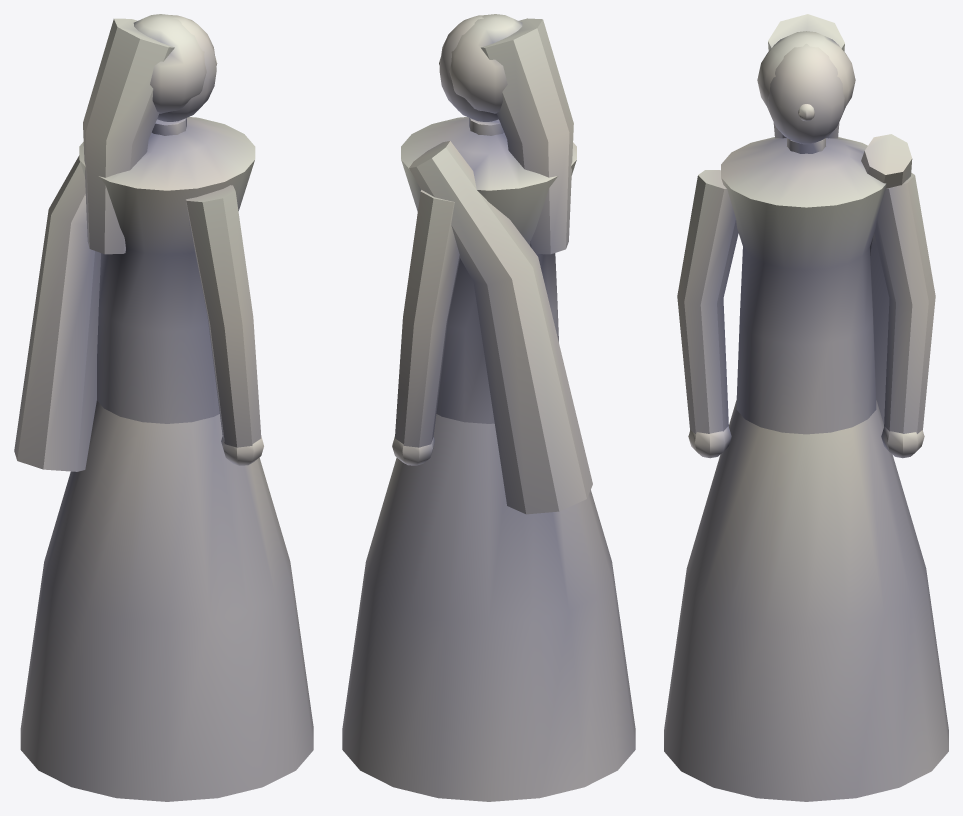
File: malati.glb
3 renders of one model, left to right at view 1: azimuth 30°, elevation 25°; view 2: azimuth 150°, elevation 25°; view 3: azimuth 270°, elevation 25°, orthographic. The views are drawn at different scales.
Parts seen in each view (by area): view 1: body; view 2: body; view 3: body.
Boxes of the visible parts, x1,y1,x2,y2 form: body: (14,14,313,801); body: (342,14,635,801); body: (664,14,948,801).
Bounding box in the file's own units: 0.6 × 1.63 × 0.5909.
